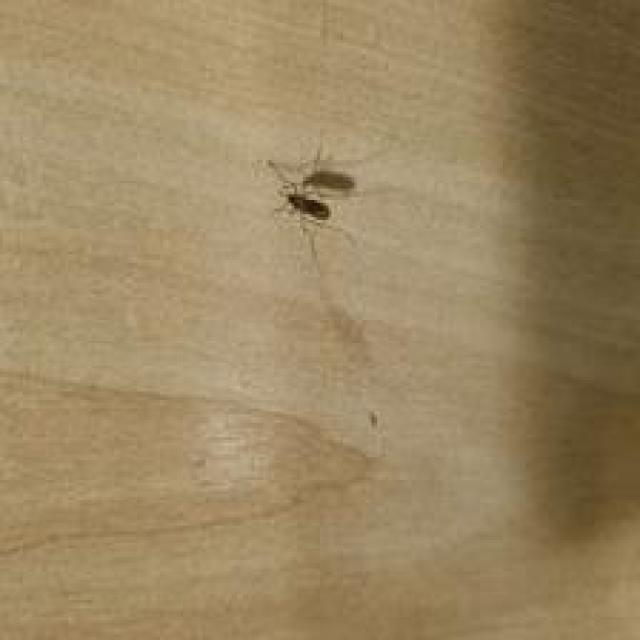Culex: (266, 143, 360, 260)
